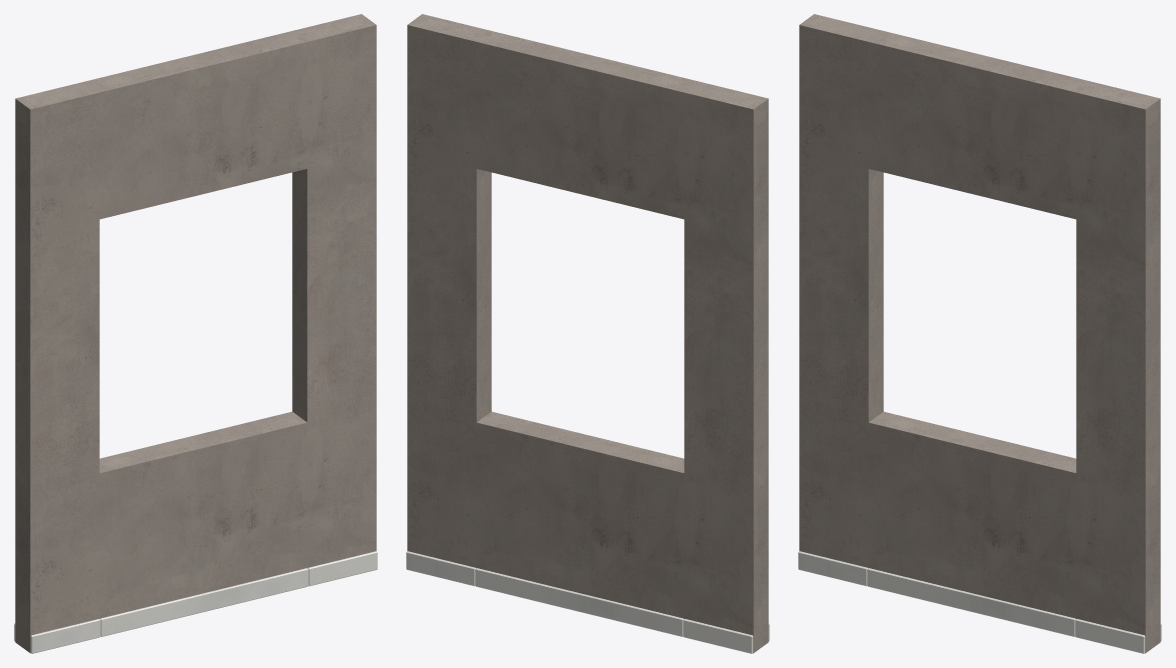
Rendered from wall_window_2x3.fbx.
The picture shows the model from 3 angles, left to right: view 1: azimuth 30°, elevation 25°; view 2: azimuth 150°, elevation 25°; view 3: azimuth 330°, elevation 25°; orthographic projection.
Visible parts, largest first — view 1: wall_window_2x3; view 2: wall_window_2x3; view 3: wall_window_2x3.
Boxes of the visible parts, x1,y1,x2,y2 form: wall_window_2x3: (14,14,377,653); wall_window_2x3: (406,14,769,653); wall_window_2x3: (798,14,1161,653).
Size of what is drawn, in the model's own units: 200 by 300 by 18.
Materials: 2 (2 with a texture image).
